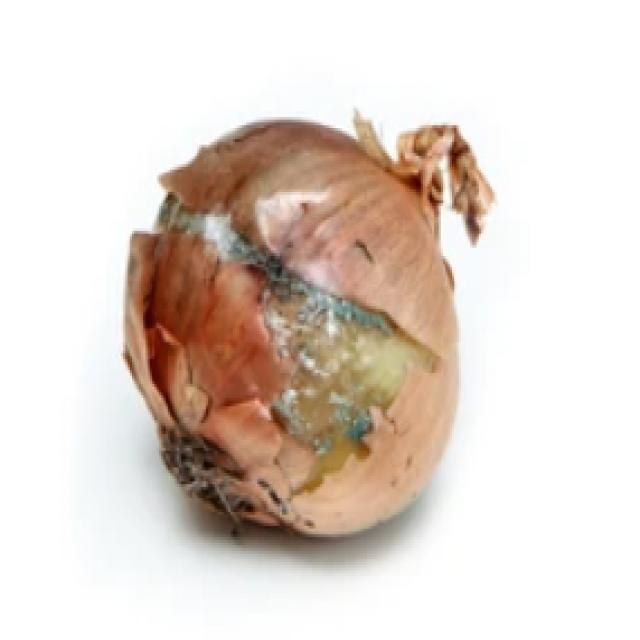rotten: (212, 222, 390, 464)
